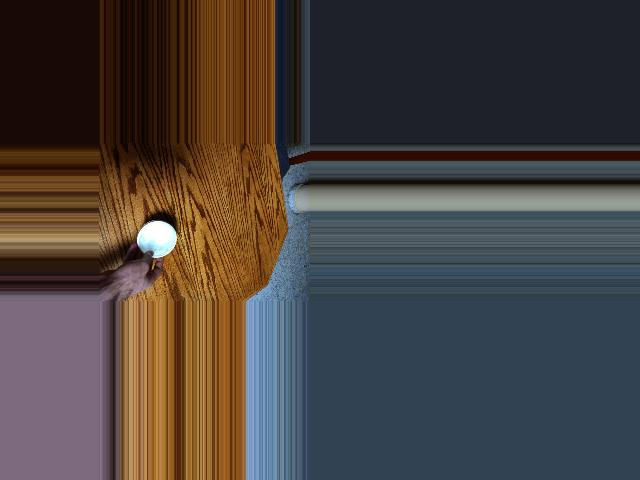cotage: (130, 219, 180, 263)
